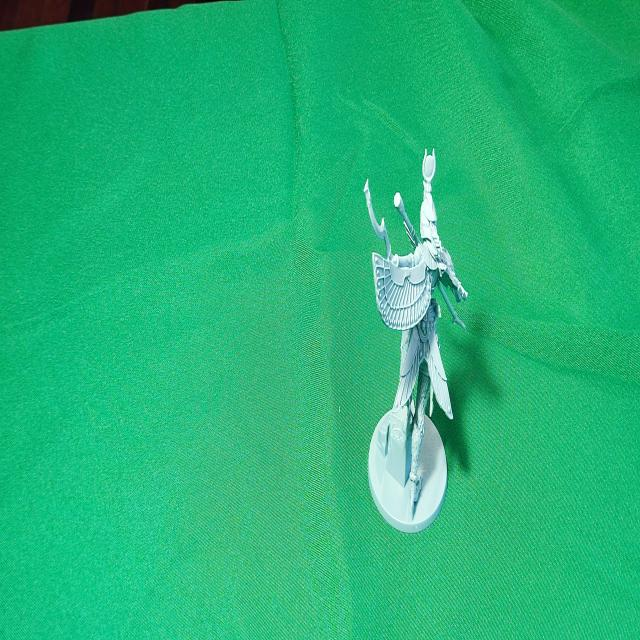isis: (348, 118, 468, 556)
